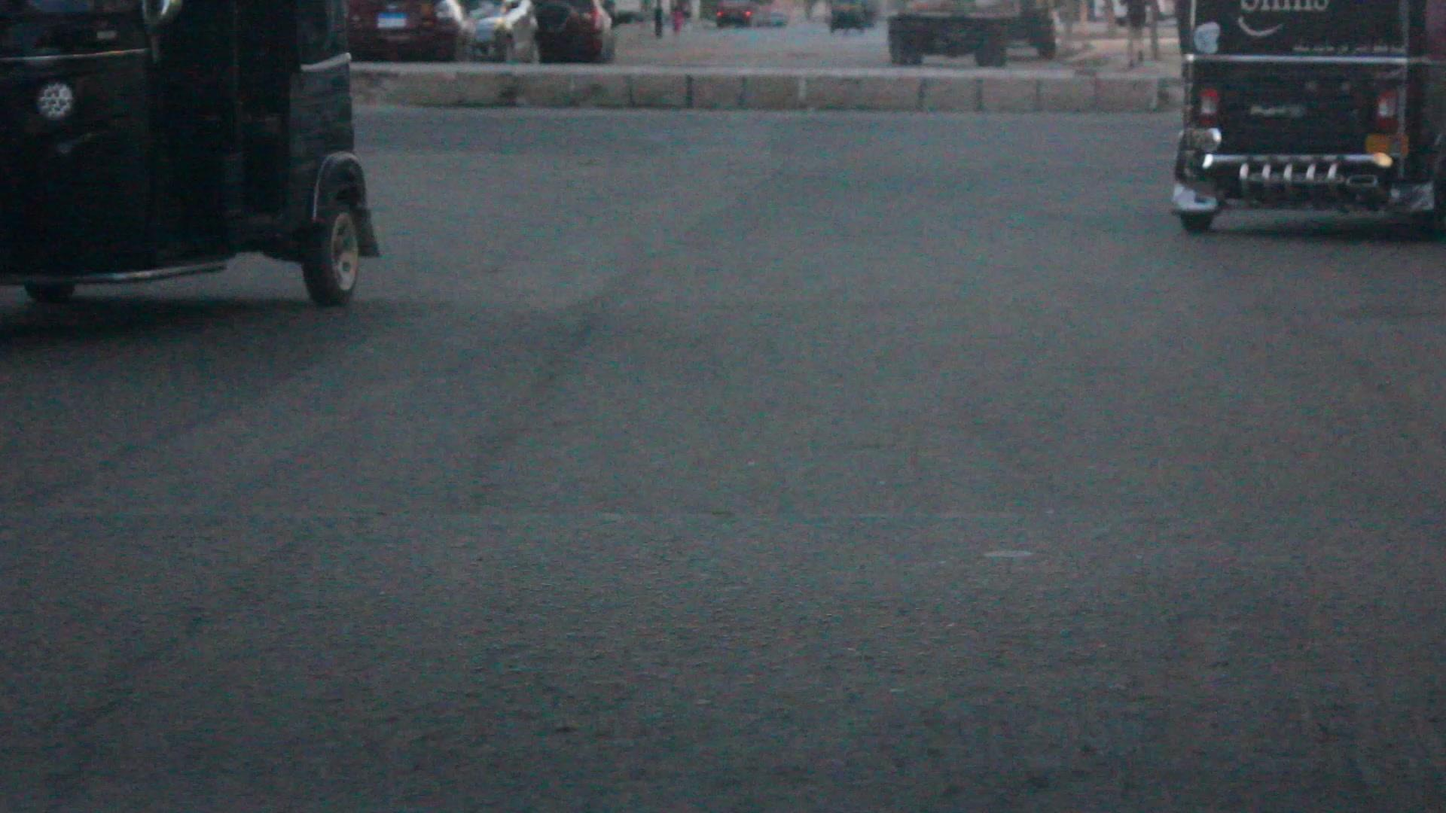Bump: (0, 509, 1444, 795)
